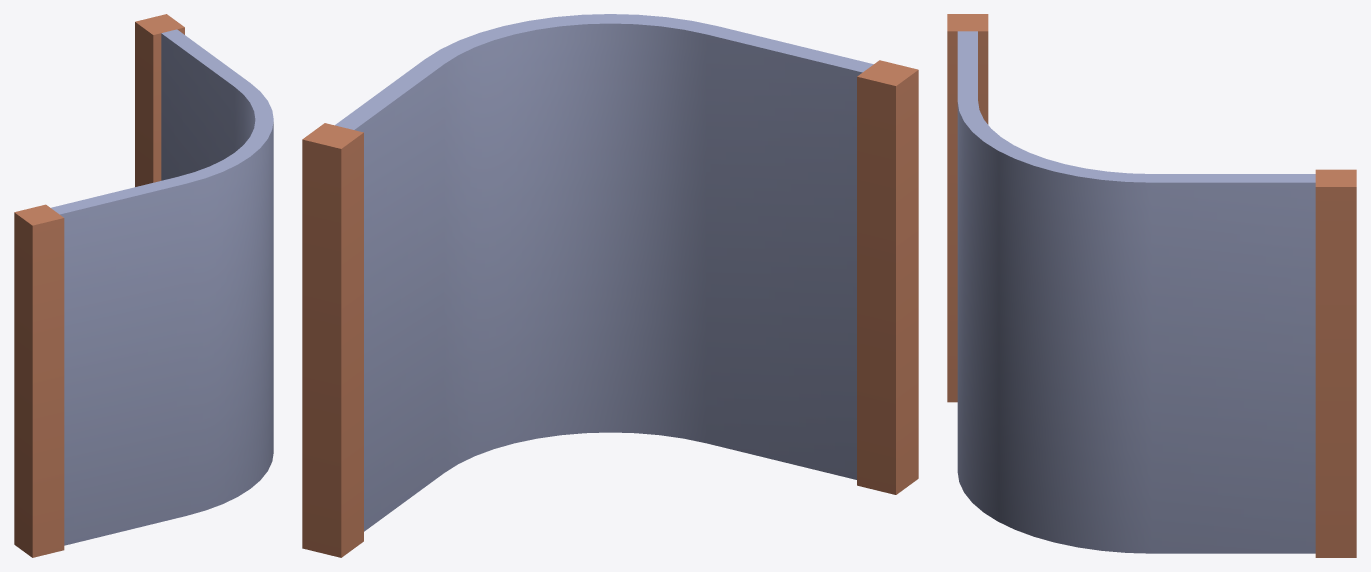
File: wall-rounded.glb
3 renders of one model, left to right at view 1: azimuth 30°, elevation 25°; view 2: azimuth 150°, elevation 25°; view 3: azimuth 270°, elevation 25°, orthographic. The views are drawn at different scales.
Visible parts, largest first — view 1: wall-rounded; view 2: wall-rounded; view 3: wall-rounded.
Part boxes in pixels (<box>): wall-rounded: <box>14,14,273,557</box>; wall-rounded: <box>302,14,918,557</box>; wall-rounded: <box>947,14,1356,557</box>.
Bounding box in the file's own units: 1 × 1 × 1.
1 material, 1 textured.
